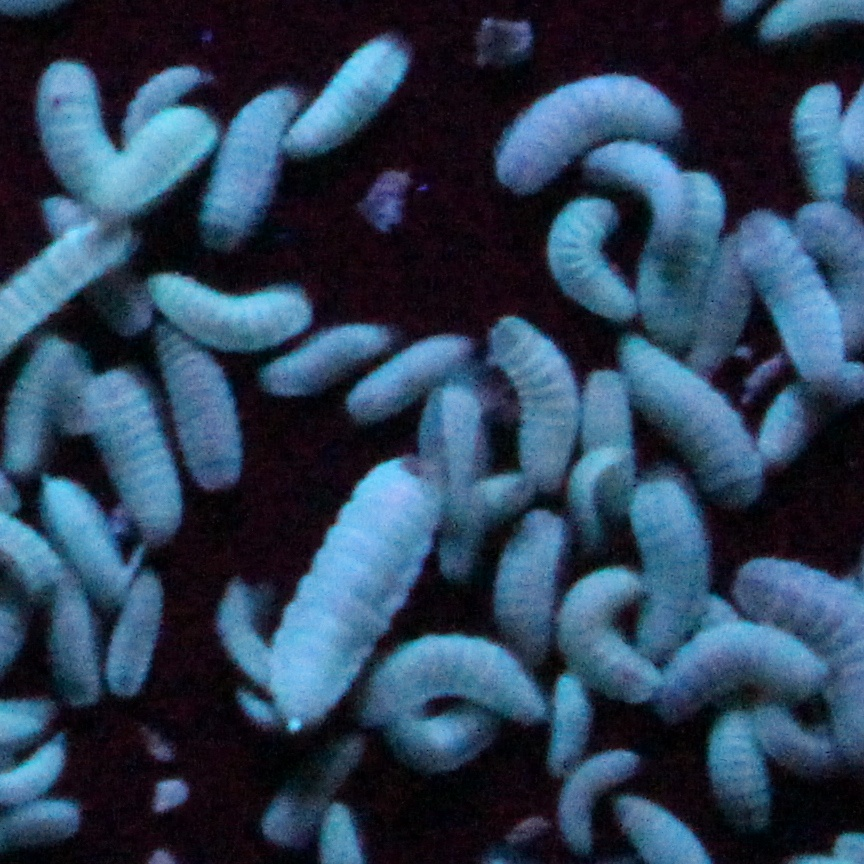larve: (274, 485, 423, 728), (654, 359, 766, 491), (507, 83, 656, 169), (107, 379, 185, 528), (207, 99, 290, 238), (385, 649, 544, 718), (497, 321, 574, 462), (110, 120, 215, 221), (761, 222, 834, 364), (575, 581, 668, 688), (644, 169, 702, 337), (307, 41, 395, 148), (656, 488, 712, 642), (666, 639, 819, 691), (176, 336, 231, 480), (356, 340, 472, 407), (44, 58, 103, 187), (556, 203, 627, 310), (768, 366, 858, 449), (697, 232, 749, 371), (54, 482, 121, 585), (508, 517, 562, 643), (274, 325, 380, 389), (719, 722, 783, 827), (269, 749, 349, 833), (167, 284, 308, 331), (20, 340, 76, 458), (610, 142, 680, 230), (397, 713, 502, 771), (454, 485, 518, 579), (59, 577, 108, 697), (802, 98, 854, 210), (566, 757, 624, 849), (433, 387, 480, 500), (112, 569, 159, 680), (602, 383, 641, 510), (133, 67, 205, 135), (580, 442, 617, 549), (554, 678, 590, 771), (233, 595, 272, 680)
